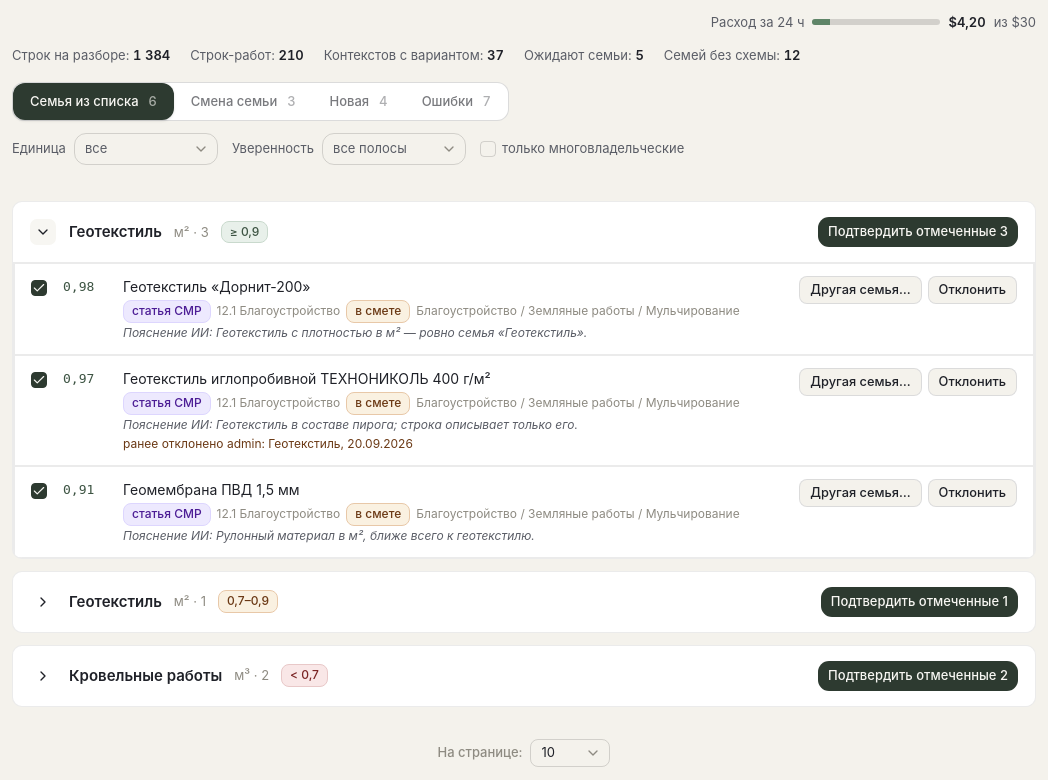
Test case: SuggestionsTab — решения обновляют очередь › подтверждение: группа уходит из очереди, инвалидируются очередь, сводка и контексты
The image size is (1048, 780).
Click the button "Подтвердить отмеченные 3" at point(918, 232), box [817, 216, 1019, 248]
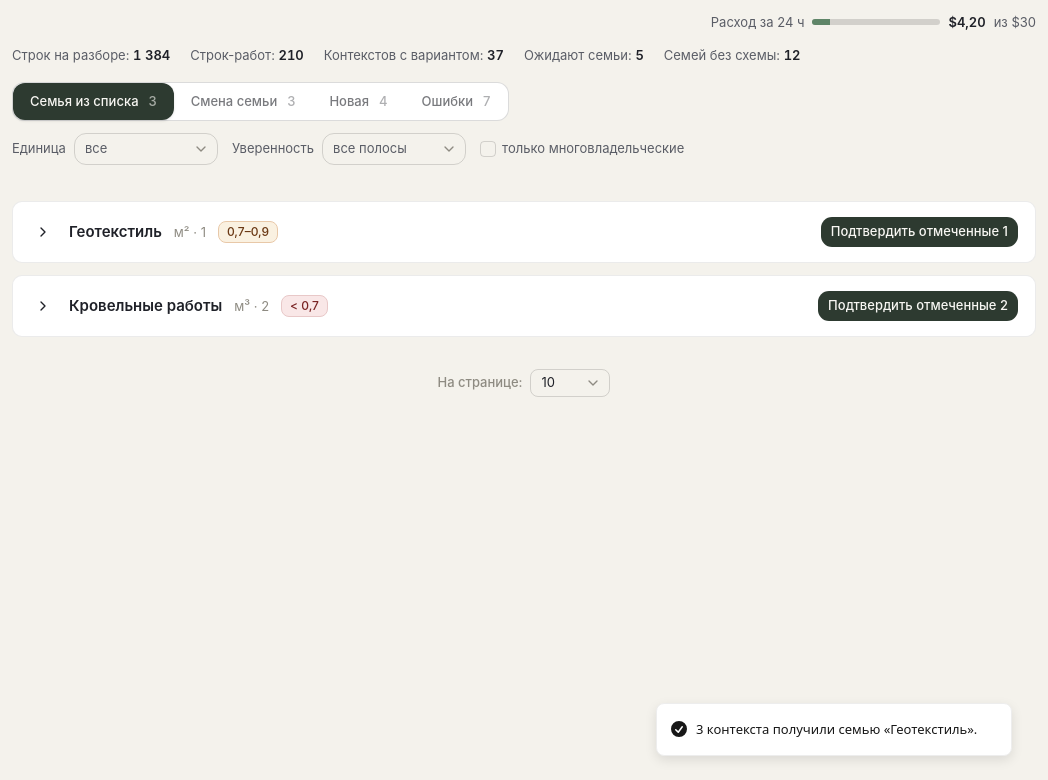
Result: the tab "Семья из списка 3" is shown at [13, 83, 174, 120]
